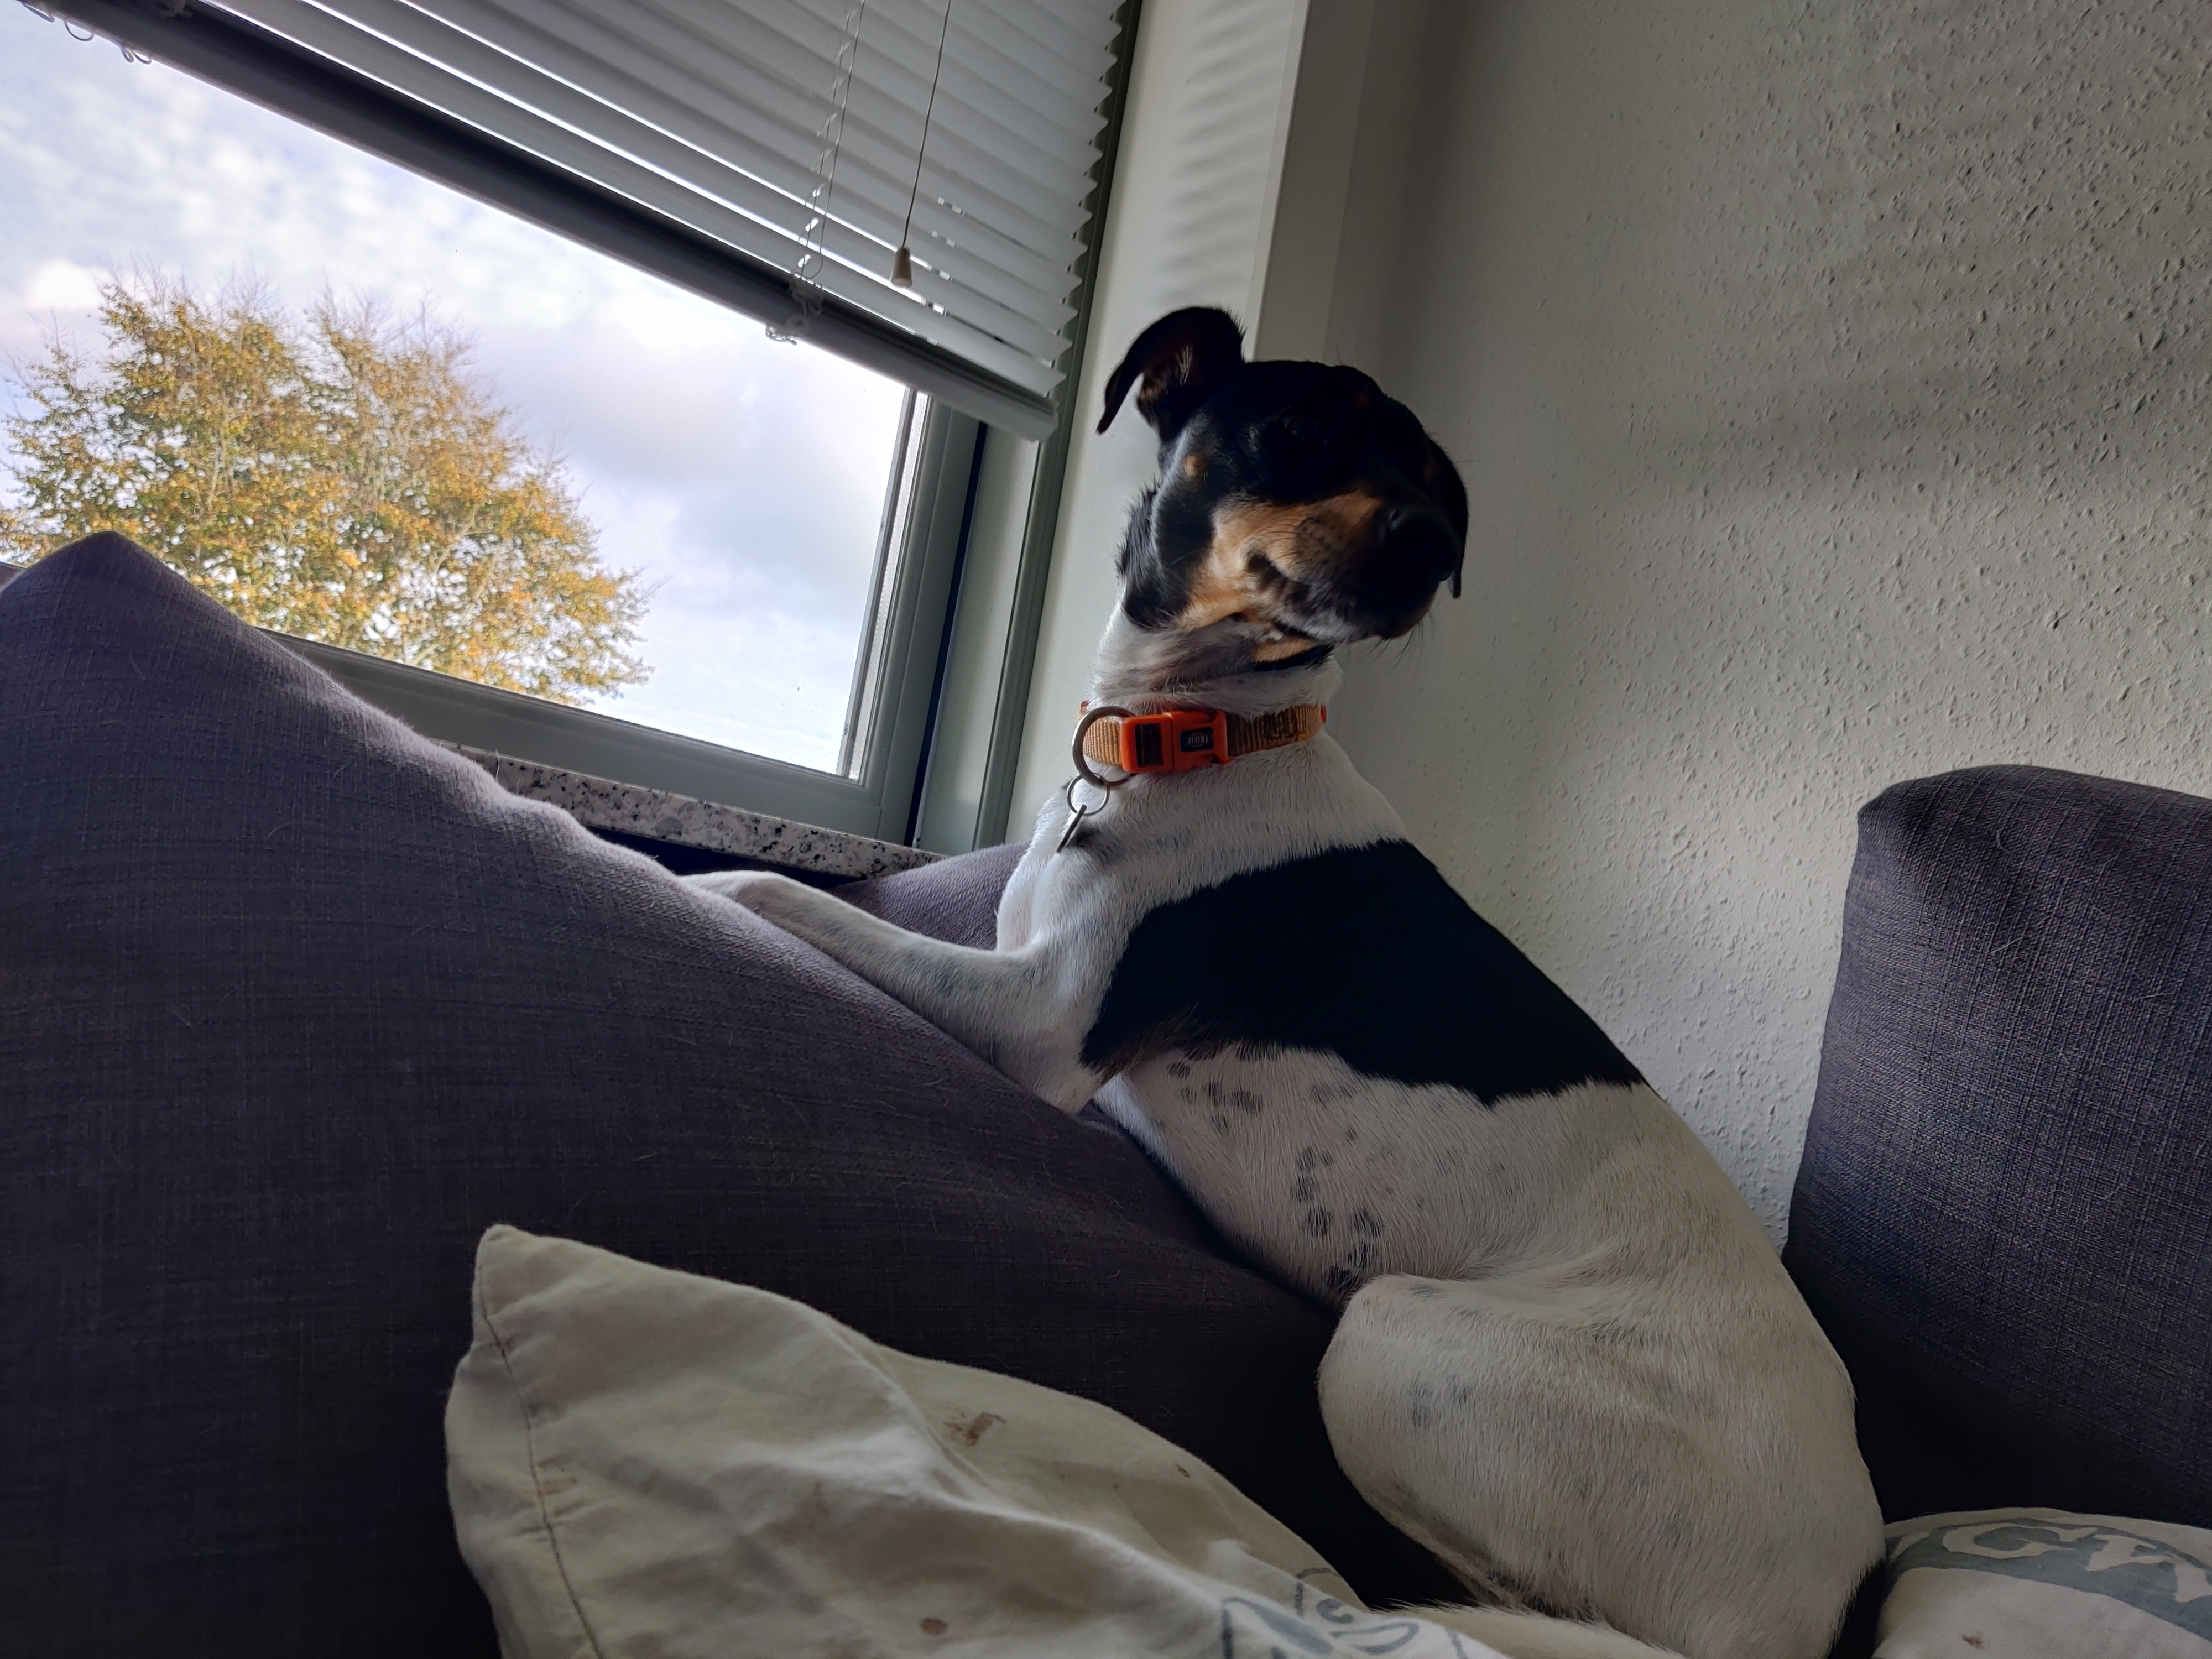Dog: (603, 291, 1928, 1659)
